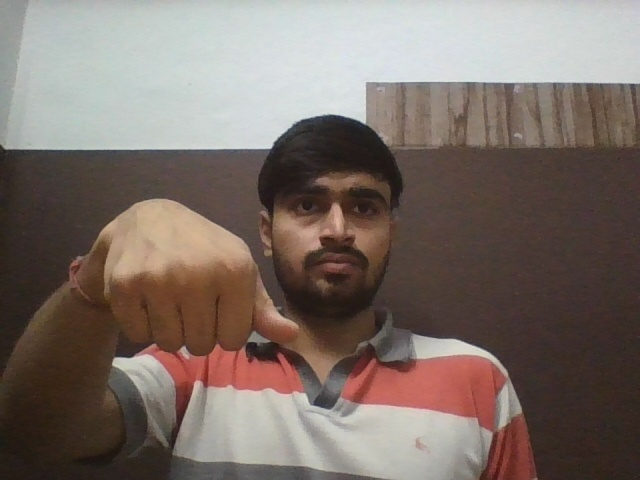Yes: (103, 196, 299, 357)
